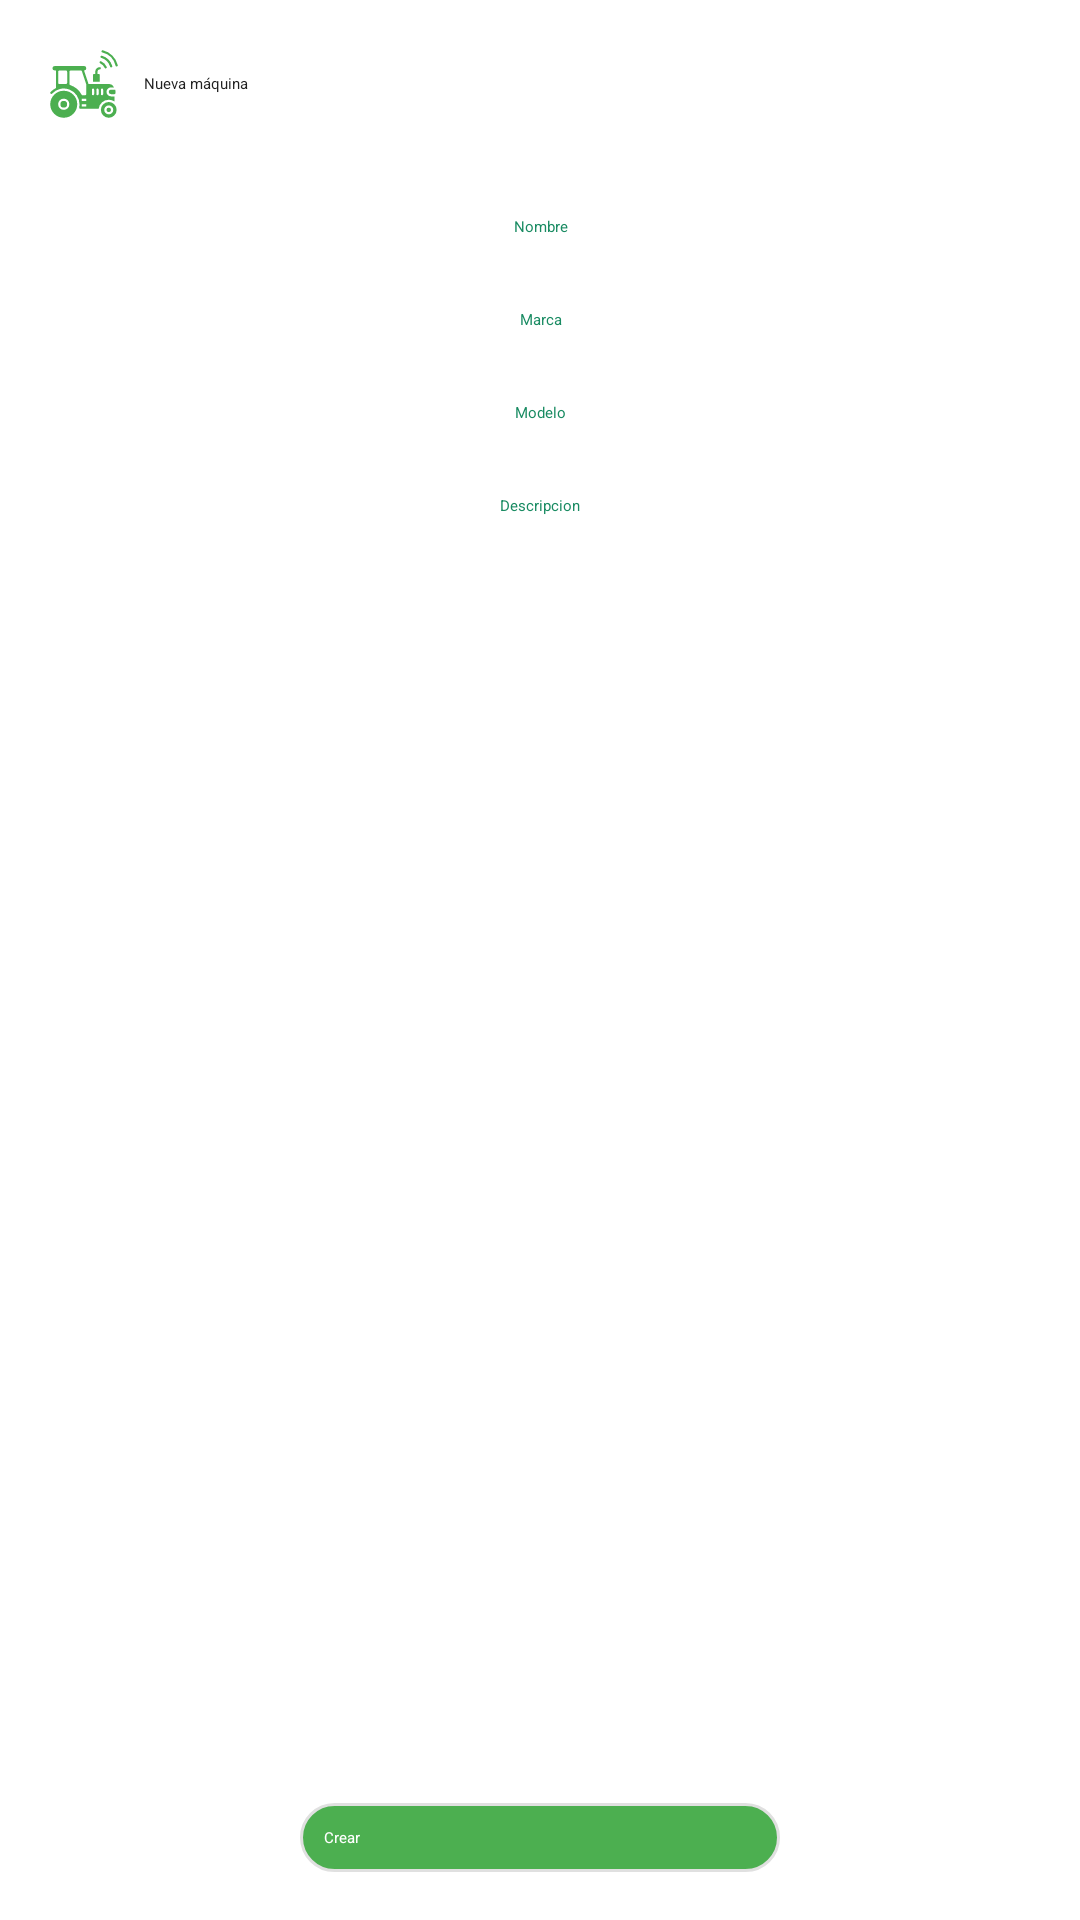

Screen size 1080×1920. Icon name, then its box in pixels as (x1, y1, x2, y2):
maquina: (50, 50, 118, 118)
